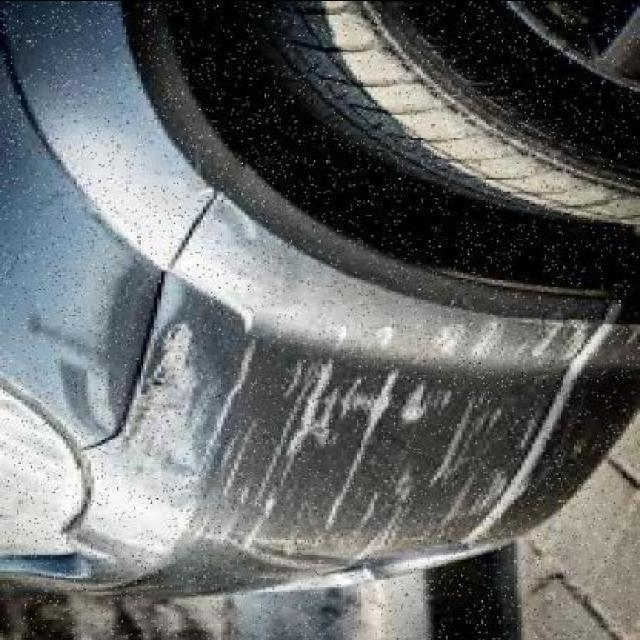front-bumper-dent: (137, 197, 637, 609)
